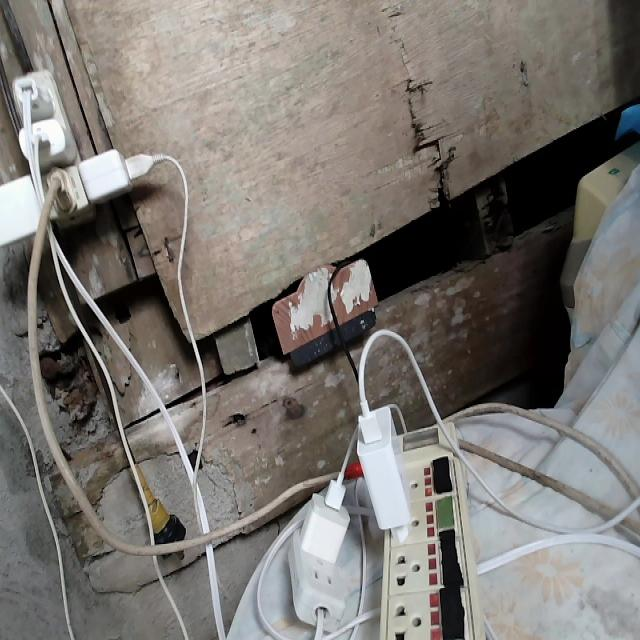-: (0, 66, 135, 238)
